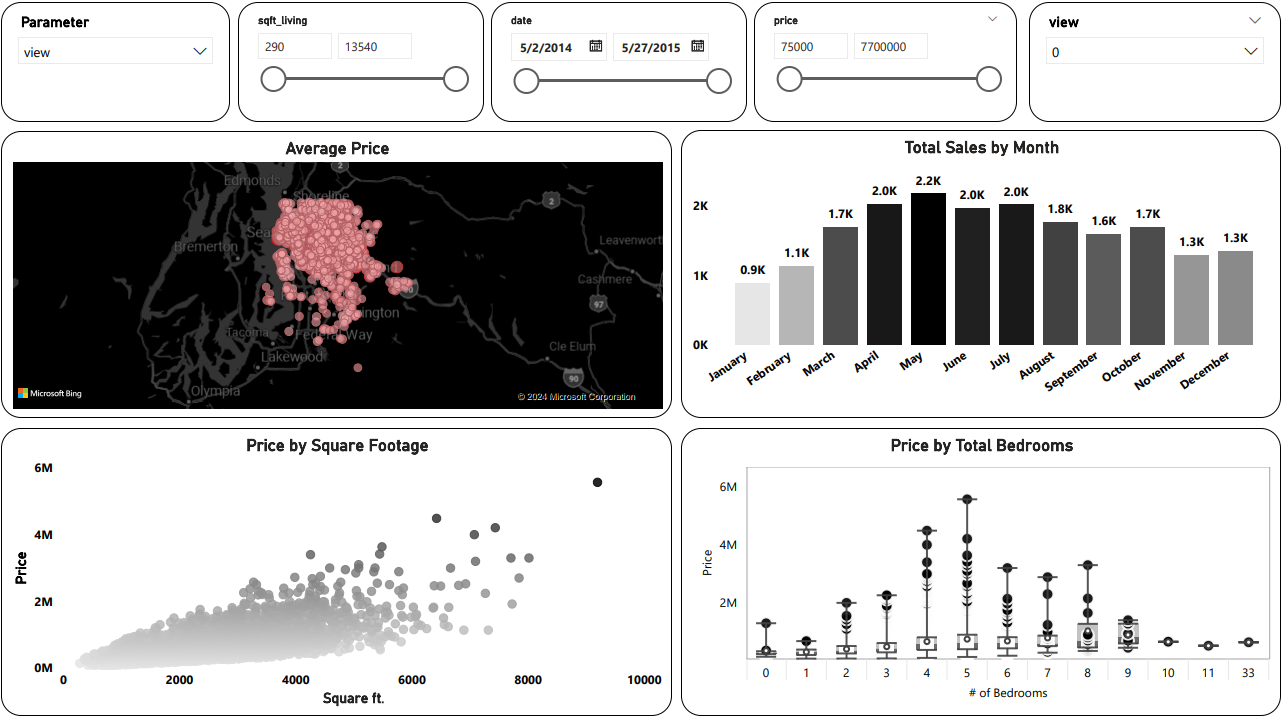

What the dashboard file says about the page in this screenshot:
{"tool":"powerbi","page":{"name":"Page 1","canvas":[1280,720],"ordinal":0},"visuals":[{"type":"slicer","fields":{"Values":["Parameter.Parameter"]},"box":[0,0,228.8,119.7],"z":0},{"type":"slicer","fields":{"Values":["House Sales in King County, USA.view"]},"box":[1028,0,252,120],"z":1000},{"type":"slicer","fields":{"Values":["House Sales in King County, USA.date"]},"box":[490,0,256,120],"z":2000},{"type":"slicer","fields":{"Values":["House Sales in King County, USA.sqft_living"]},"box":[237,0,246,120],"z":3000},{"type":"slicer","fields":{"Values":["House Sales in King County, USA.price"]},"box":[753,0,263,120],"z":4000},{"type":"clusteredColumnChart","title":"Total Sales by Month","fields":{"Y":["CountNonNull(House Sales in King County, USA.id)"],"Category":["House Sales in King County, USA.date.Variation.Date Hierarchy.Month"]},"box":[680,128,600,288],"z":5000},{"type":"map","title":"Average Price","fields":{"Y":["House Sales in King County, USA.lat"],"X":["House Sales in King County, USA.long"],"Size":["Sum(House Sales in King County, USA.price)"]},"box":[0,128.6,671.2,287.3],"z":6000},{"type":"scatterChart","title":"Price by Square Footage","fields":{"Y":["House Sales in King County, USA.price"],"X":["House Sales in King County, USA.sqft_living"]},"box":[0,425.6,671.2,288.2],"z":7000},{"type":"BoxandWhiskerByMAQ1823AD39DT234AB532063E128AX","title":"Price by Total Bedrooms","fields":{"category":["House Sales in King County, USA.price"],"categoryGroup":["House Sales in King County, USA.bedrooms"],"measure":["Avg(House Sales in King County, USA.price)"]},"box":[680,426,600,288],"z":8000}]}

Visuals, with their boxes in screenshot pixels (x1, y1, x2, y2), scaled from the page's 1280x720 canvas onto the 1282x719 screenshot:
slicer - Parameter.Parameter: {"left": 0, "top": 0, "right": 229, "bottom": 120}
slicer - House Sales in King County, USA.view: {"left": 1030, "top": 0, "right": 1281, "bottom": 120}
slicer - House Sales in King County, USA.date: {"left": 491, "top": 0, "right": 747, "bottom": 120}
slicer - House Sales in King County, USA.sqft_living: {"left": 237, "top": 0, "right": 484, "bottom": 120}
slicer - House Sales in King County, USA.price: {"left": 754, "top": 0, "right": 1018, "bottom": 120}
"Total Sales by Month" clusteredColumnChart: {"left": 681, "top": 128, "right": 1281, "bottom": 415}
"Average Price" map: {"left": 0, "top": 128, "right": 672, "bottom": 415}
"Price by Square Footage" scatterChart: {"left": 0, "top": 425, "right": 672, "bottom": 713}
"Price by Total Bedrooms" BoxandWhiskerByMAQ1823AD39DT234AB532063E128AX: {"left": 681, "top": 425, "right": 1281, "bottom": 713}
